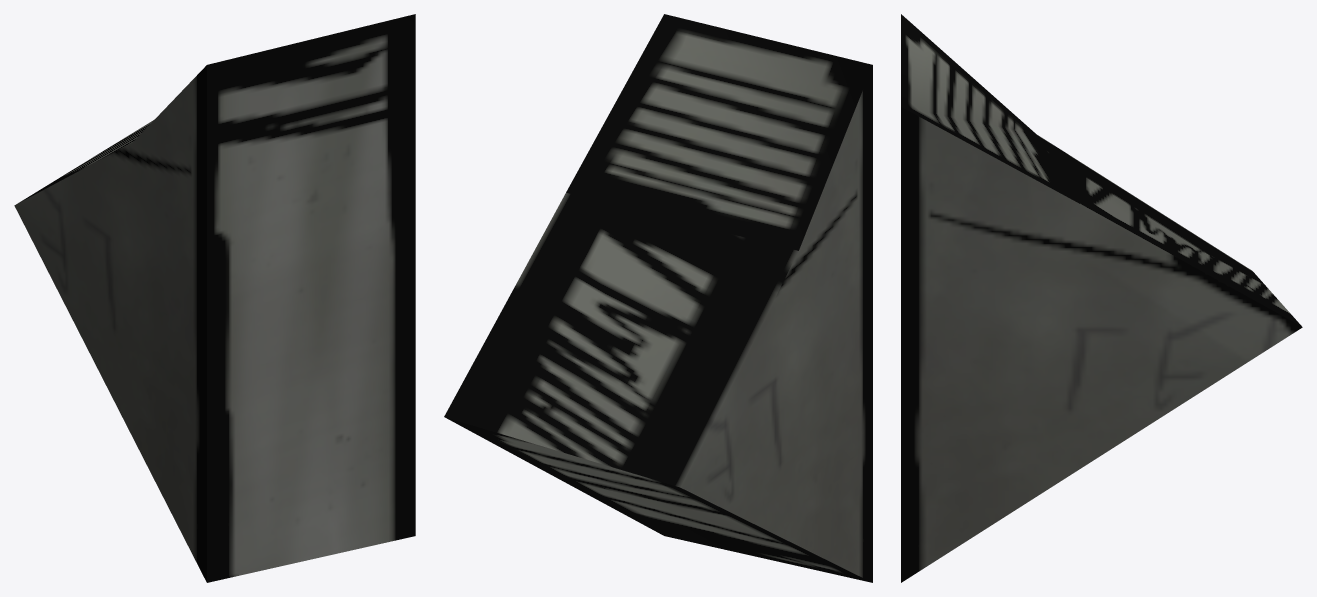
The model's file is tombstone_02_gib3.fbx.
3 renders of one model, left to right at view 1: azimuth 30°, elevation 25°; view 2: azimuth 150°, elevation 25°; view 3: azimuth 270°, elevation 25°, orthographic. The views are drawn at different scales.
Visible parts, largest first — view 1: tombstone_02_gib3; view 2: tombstone_02_gib3; view 3: tombstone_02_gib3.
Boxes of the visible parts, x1,y1,x2,y2 form: tombstone_02_gib3: [14, 14, 415, 582]; tombstone_02_gib3: [444, 14, 872, 582]; tombstone_02_gib3: [901, 14, 1302, 582].
Bounding box in the file's own units: 1 × 2.39 × 1.83.
